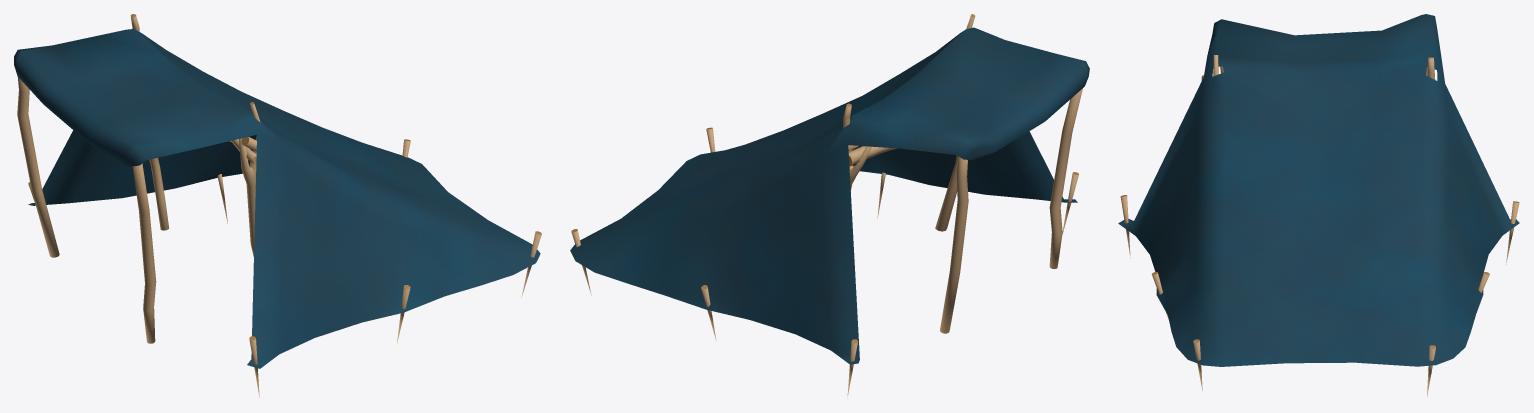
File: Tent_Leanto_2.fbx
3 views of the same model, side by side, from view 1: azimuth 30°, elevation 25°; view 2: azimuth 150°, elevation 25°; view 3: azimuth 270°, elevation 25° (orthographic). The views are drawn at different scales.
Visible parts, largest first — view 1: Plane.004, Plane.006, Cylinder.083, Cylinder.081, Cube.079, Cube.080; view 2: Plane.004, Plane.006, Cylinder.081, Cylinder.083, Cube.079, Cube.080; view 3: Plane.004, Plane.006.
Part boxes in pixels (left/top/right/bottom): Plane.004: left=14, top=29, right=540, bottom=368; Plane.006: left=14, top=29, right=539, bottom=367; Cylinder.083: left=132, top=152, right=156, bottom=343; Cylinder.081: left=17, top=77, right=59, bottom=257; Cube.079: left=239, top=102, right=260, bottom=256; Cube.080: left=130, top=14, right=169, bottom=230; Plane.004: left=570, top=27, right=1089, bottom=364; Plane.006: left=571, top=28, right=1088, bottom=363; Cylinder.081: left=940, top=157, right=968, bottom=333; Cylinder.083: left=1049, top=88, right=1082, bottom=268; Cube.079: left=935, top=14, right=975, bottom=231; Cube.080: left=843, top=103, right=871, bottom=190; Plane.004: left=1118, top=14, right=1519, bottom=366; Plane.006: left=1119, top=15, right=1518, bottom=366.
Bounding box in the file's own units: 402 × 247 × 389.
